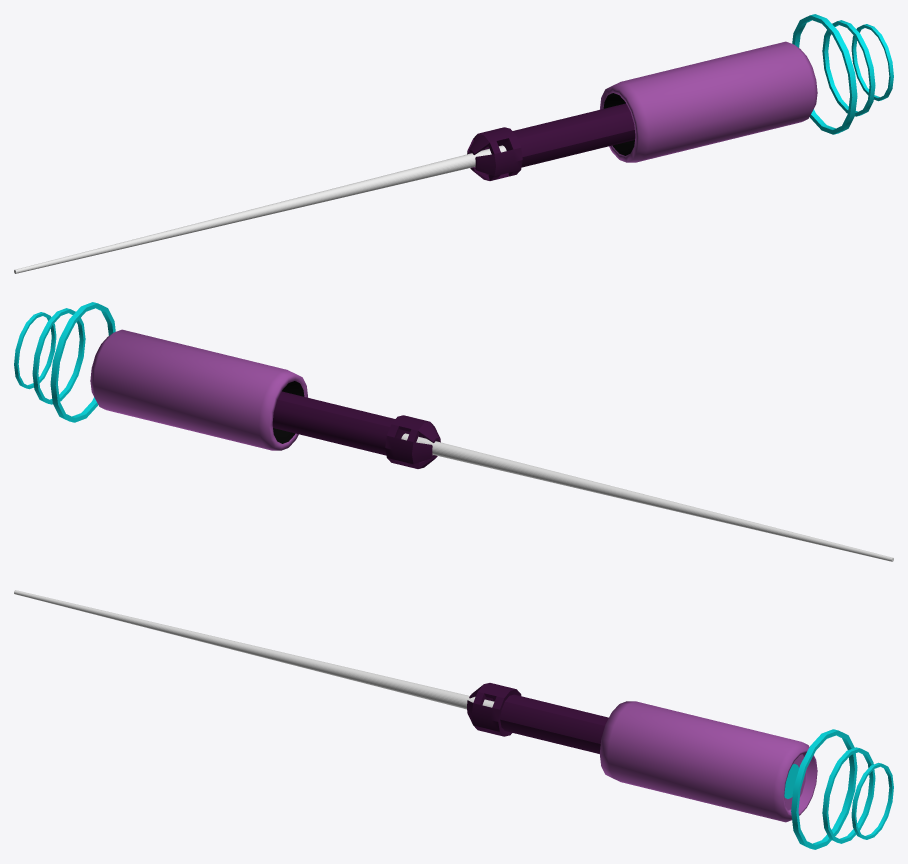
Rendered from Billar_Pusher.fbx.
3 renders of one model, top to bottom at view 1: azimuth 30°, elevation 25°; view 2: azimuth 150°, elevation 25°; view 3: azimuth 330°, elevation 25°, orthographic.
Visible parts, largest first — view 1: Cylinder, Arm, Billar_Stick, Cylinder_Ring_1.001, Cylinder_Ring_2.001, Cylinder_Ring_3.001; view 2: Cylinder, Arm, Billar_Stick, Cylinder_Ring_1.001, Cylinder_Ring_2.001, Cylinder_Ring_3.001; view 3: Cylinder, Arm, Billar_Stick, Cylinder_Ring_1.001, Cylinder_Ring_2.001, Cylinder_Ring_3.001.
Part boxes in pixels (box(x1,y1,x2,y2)): Cylinder: box(600, 41, 817, 162); Arm: box(467, 103, 635, 180); Billar_Stick: box(14, 145, 506, 273); Cylinder_Ring_1.001: box(792, 14, 857, 134); Cylinder_Ring_2.001: box(822, 20, 875, 116); Cylinder_Ring_3.001: box(851, 24, 893, 101); Cylinder: box(90, 329, 307, 450); Arm: box(272, 391, 440, 468); Billar_Stick: box(401, 433, 893, 561); Cylinder_Ring_1.001: box(50, 302, 115, 422); Cylinder_Ring_2.001: box(32, 308, 85, 404); Cylinder_Ring_3.001: box(14, 312, 56, 389); Cylinder: box(599, 701, 817, 822); Arm: box(467, 683, 608, 753); Billar_Stick: box(14, 590, 494, 709); Cylinder_Ring_1.001: box(791, 729, 857, 849); Cylinder_Ring_2.001: box(822, 747, 875, 843); Cylinder_Ring_3.001: box(851, 762, 893, 839).
Bounding box in the file's own units: 1623 × 200 × 200.
